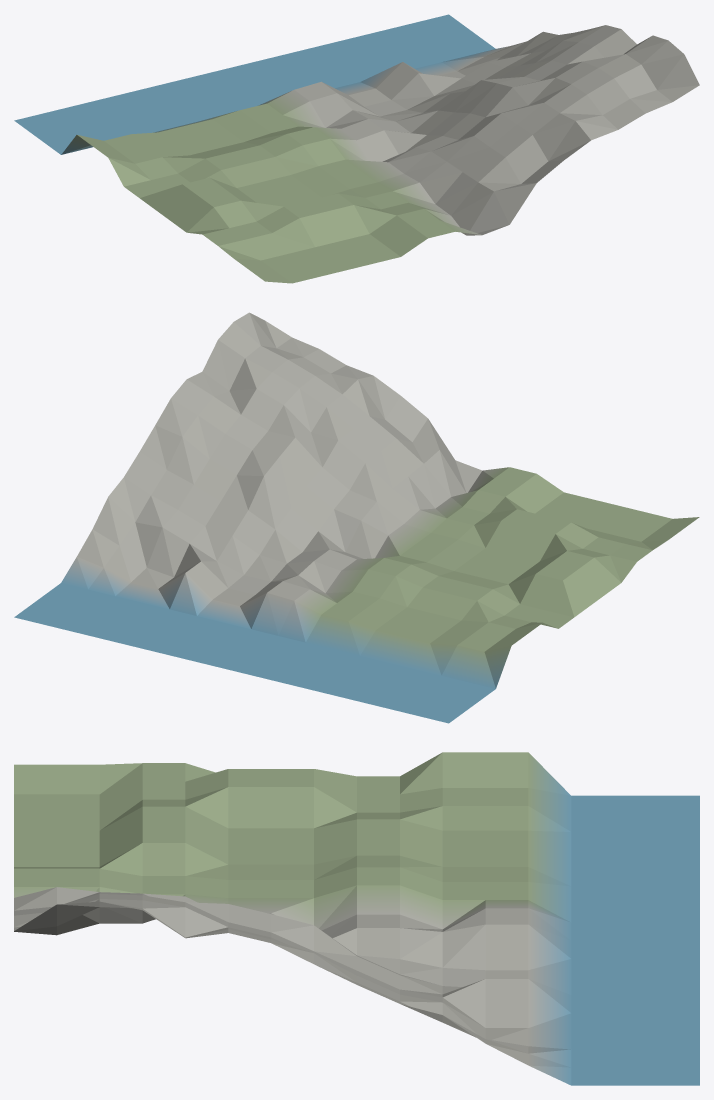
3 views of the same model, one above another, from view 1: azimuth 30°, elevation 25°; view 2: azimuth 150°, elevation 25°; view 3: azimuth 270°, elevation 25° (orthographic). The views are drawn at different scales.
Bounding box in the file's own units: 32 × 9.48 × 32.
